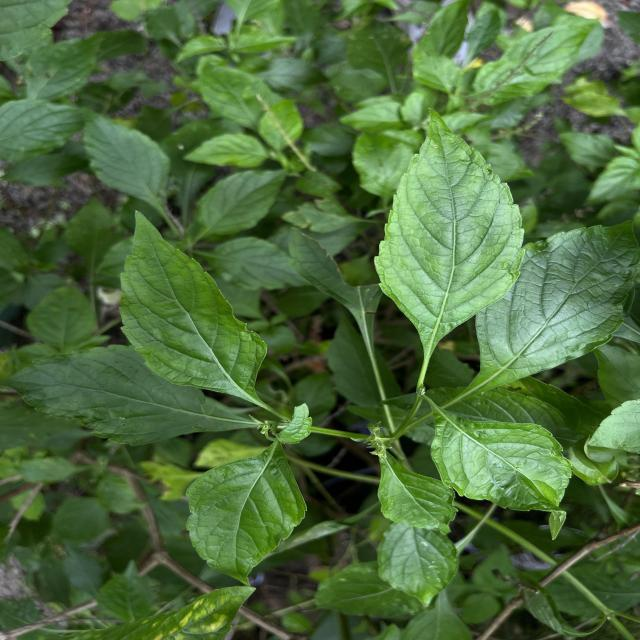Ocimum gratissimum: (372, 104, 527, 376), (458, 211, 640, 403), (116, 208, 270, 406), (0, 341, 260, 450), (424, 389, 574, 544), (183, 434, 310, 590), (376, 446, 460, 538)
